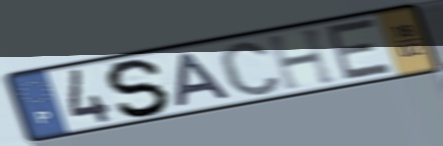4: (68, 67, 114, 126)
A: (174, 50, 235, 110)
C: (215, 38, 285, 98)
E: (324, 16, 396, 83)
H: (263, 25, 341, 93)
S: (104, 57, 174, 118)
